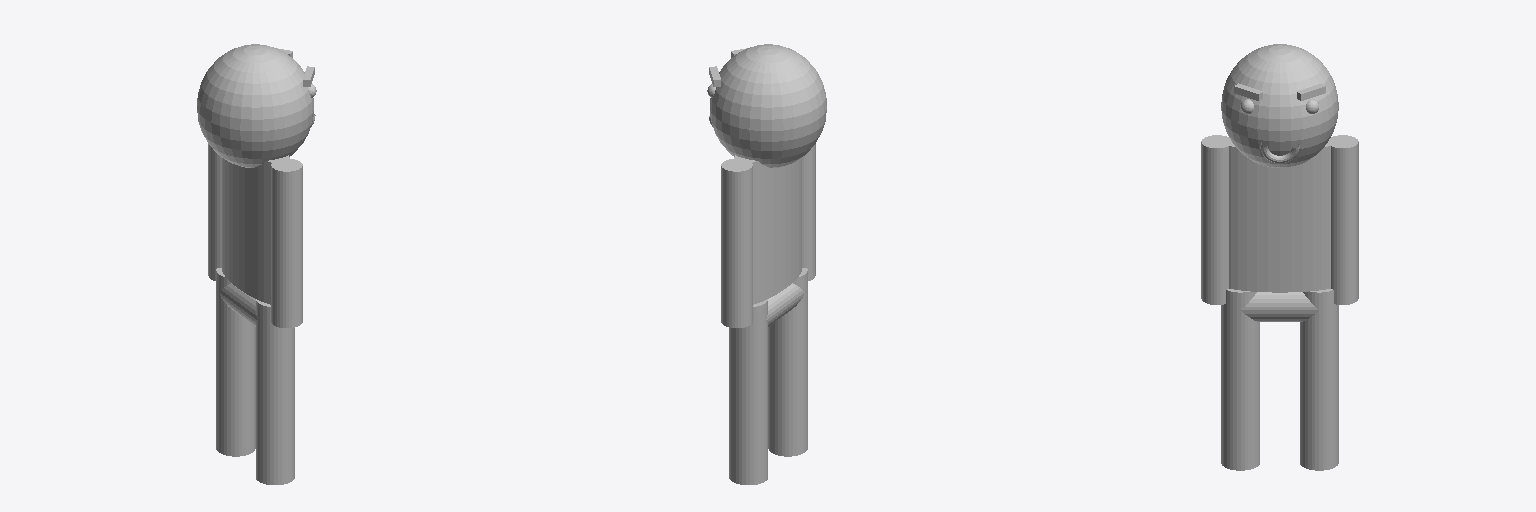
The model's file is guy.obj.
The picture shows the model from 3 angles: view 1: azimuth 30°, elevation 25°; view 2: azimuth 150°, elevation 25°; view 3: azimuth 270°, elevation 25°; orthographic projection.
Visible parts, largest first — view 1: Head, Leg_Right, Torso, Leg_Left, Upperarm_Right, Forearm_Right, Forearm_Left, Hip, Upperarm_Left; view 2: Head, Leg_Left, Torso, Leg_Right, Upperarm_Left, Forearm_Left, Forearm_Right, Hip, Upperarm_Right; view 3: Torso, Head, Leg_Left, Leg_Right, Upperarm_Right, Upperarm_Left, Forearm_Left, Forearm_Right, Hip.
Boxes of the visible parts, box(x1,y1,x2,y2) form: Head: box(197, 44, 313, 167); Leg_Right: box(256, 299, 294, 484); Torso: box(222, 155, 289, 304); Leg_Left: box(216, 268, 255, 456); Upperarm_Right: box(271, 158, 302, 256); Forearm_Right: box(271, 252, 302, 327); Forearm_Left: box(208, 205, 221, 280); Hip: box(219, 283, 257, 326); Upperarm_Left: box(208, 144, 221, 210); Head: box(710, 44, 826, 167); Leg_Left: box(729, 299, 767, 484); Torso: box(734, 155, 801, 304); Leg_Right: box(768, 268, 807, 456); Upperarm_Left: box(721, 159, 752, 256); Forearm_Left: box(721, 252, 752, 327); Forearm_Right: box(802, 205, 815, 280); Hip: box(766, 283, 804, 326); Upperarm_Right: box(802, 144, 815, 210); Torso: box(1222, 138, 1338, 292); Head: box(1221, 44, 1338, 167); Leg_Left: box(1300, 289, 1338, 470); Leg_Right: box(1221, 289, 1259, 470); Upperarm_Right: box(1201, 135, 1231, 233); Upperarm_Left: box(1329, 135, 1358, 233); Forearm_Left: box(1331, 228, 1358, 304); Forearm_Right: box(1201, 228, 1228, 304); Hip: box(1241, 292, 1318, 321).
Size of the model in its own units: 1.51 by 5.8 by 2.